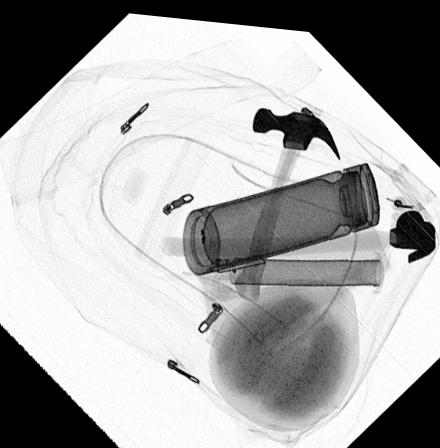Hammer: (232, 102, 339, 297), (160, 201, 435, 254)
